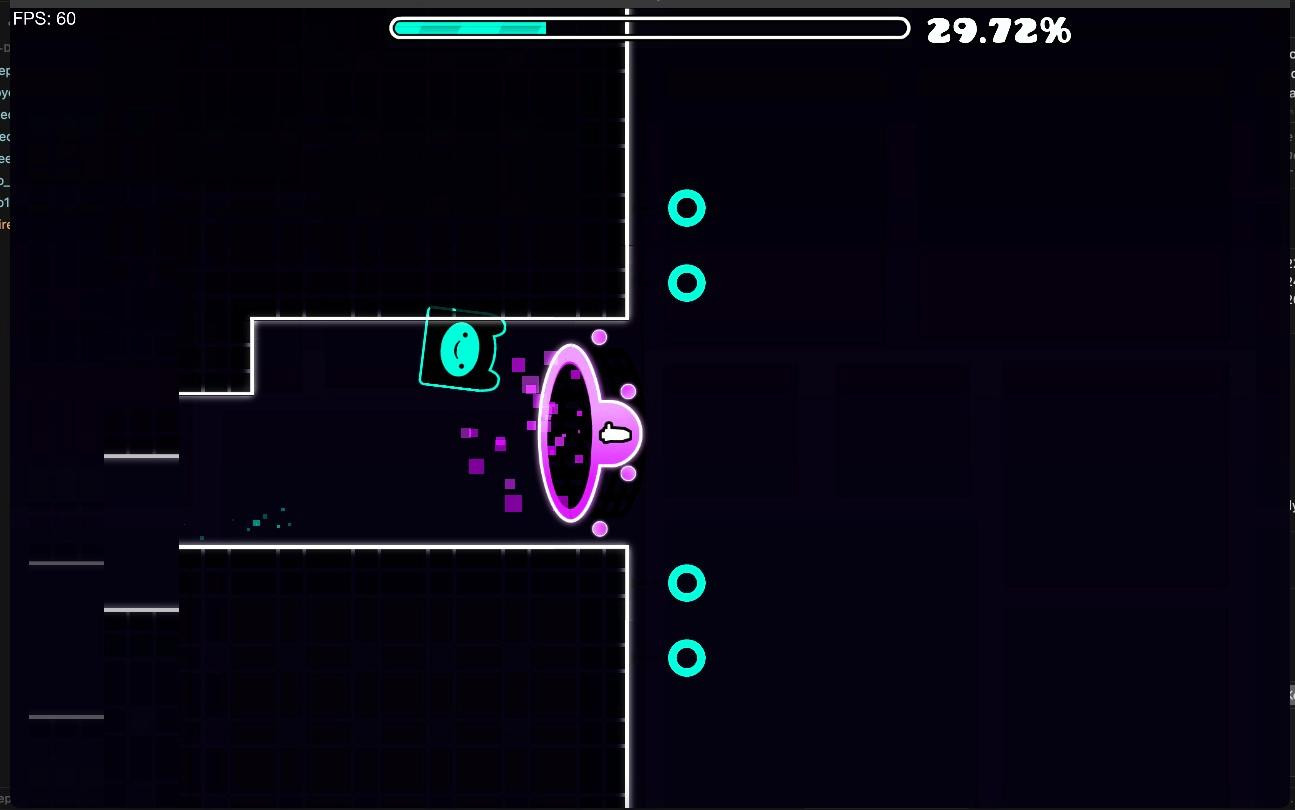player: (420, 319, 506, 391)
portal: (536, 344, 642, 522)
